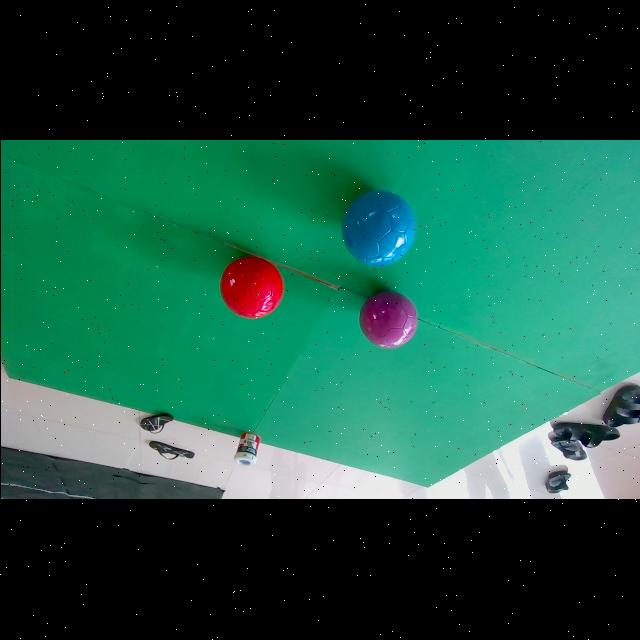B: (341, 192, 415, 267)
P: (359, 292, 417, 349)
R: (220, 257, 283, 319)
